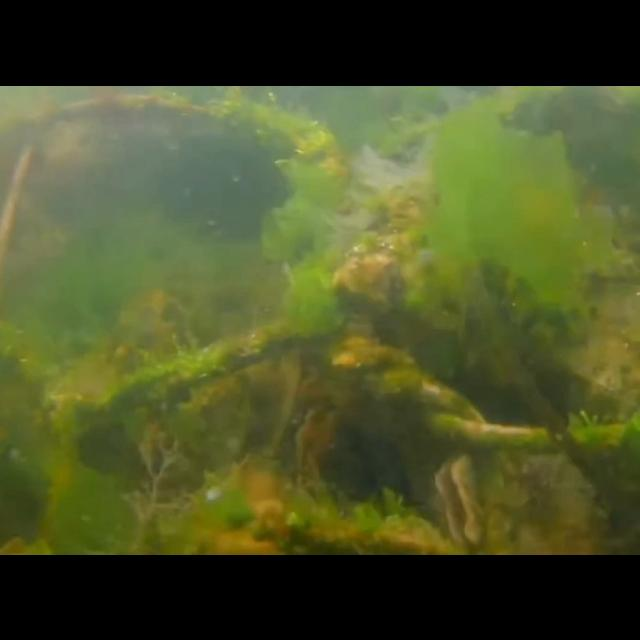Oyster-Open: (268, 346, 342, 490), (429, 451, 489, 544)
